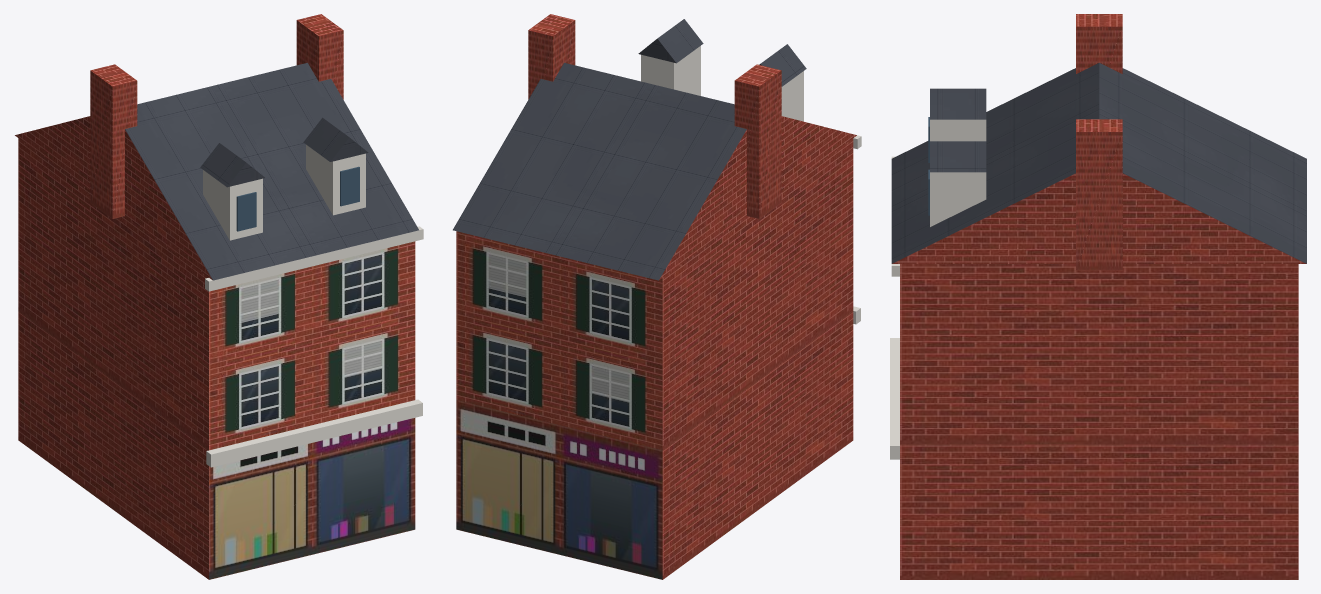
Rendered from 015_federal_shop.glb.
3 views of the same model, side by side, from view 1: azimuth 30°, elevation 25°; view 2: azimuth 150°, elevation 25°; view 3: azimuth 270°, elevation 25° (orthographic). The views are drawn at different scales.
Visible parts, largest first — view 1: 015_federal_shop; view 2: 015_federal_shop; view 3: 015_federal_shop.
Part boxes in pixels (x1,y1,x2,y2): 015_federal_shop: (15, 14, 423, 579); 015_federal_shop: (453, 14, 861, 579); 015_federal_shop: (890, 14, 1306, 579).
Bounding box in the file's own units: 8.4 × 15.1 × 12.55.
6 materials, 4 textured.
